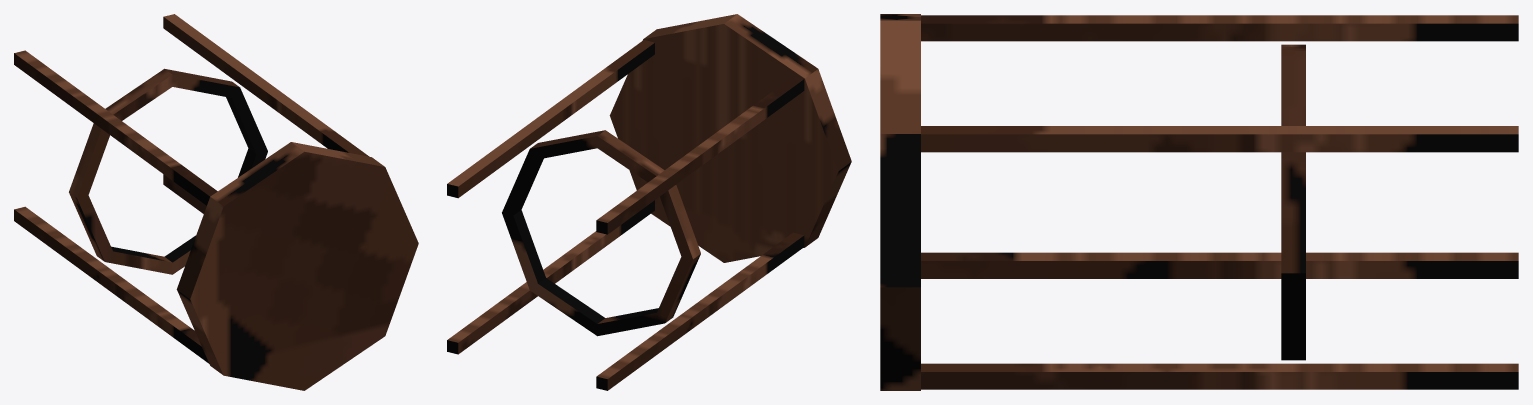
File: pz_house_stool_bar.obj
3 views of the same model, side by side, from view 1: azimuth 30°, elevation 25°; view 2: azimuth 150°, elevation 25°; view 3: azimuth 270°, elevation 25° (orthographic). The views are drawn at different scales.
Parts seen in each view (by area): view 1: pz_house_stool_bar_|_1_assento, pz_house_stool_bar_|_6_assento, pz_house_stool_bar_|_3_pes_suporte, pz_house_stool_bar_|_2_pes_suporte, pz_house_stool_bar_|_5_pes_suporte, pz_house_stool_bar_|_4_pes_suporte; view 2: pz_house_stool_bar_|_1_assento, pz_house_stool_bar_|_6_assento, pz_house_stool_bar_|_2_pes_suporte, pz_house_stool_bar_|_3_pes_suporte, pz_house_stool_bar_|_5_pes_suporte, pz_house_stool_bar_|_4_pes_suporte; view 3: pz_house_stool_bar_|_3_pes_suporte, pz_house_stool_bar_|_4_pes_suporte, pz_house_stool_bar_|_5_pes_suporte, pz_house_stool_bar_|_2_pes_suporte, pz_house_stool_bar_|_1_assento, pz_house_stool_bar_|_6_assento.
Part boxes in pixels (x1,y1,x2,y2): pz_house_stool_bar_|_1_assento: [176, 142, 418, 390]; pz_house_stool_bar_|_6_assento: [69, 68, 267, 274]; pz_house_stool_bar_|_3_pes_suporte: [14, 50, 217, 205]; pz_house_stool_bar_|_2_pes_suporte: [14, 206, 209, 363]; pz_house_stool_bar_|_5_pes_suporte: [163, 14, 368, 156]; pz_house_stool_bar_|_4_pes_suporte: [163, 174, 206, 213]; pz_house_stool_bar_|_1_assento: [609, 14, 851, 262]; pz_house_stool_bar_|_6_assento: [502, 130, 700, 336]; pz_house_stool_bar_|_2_pes_suporte: [596, 232, 804, 390]; pz_house_stool_bar_|_3_pes_suporte: [596, 76, 804, 234]; pz_house_stool_bar_|_5_pes_suporte: [447, 40, 654, 198]; pz_house_stool_bar_|_4_pes_suporte: [447, 200, 654, 354]; pz_house_stool_bar_|_3_pes_suporte: [921, 15, 1518, 41]; pz_house_stool_bar_|_4_pes_suporte: [921, 363, 1518, 389]; pz_house_stool_bar_|_5_pes_suporte: [921, 126, 1518, 152]; pz_house_stool_bar_|_2_pes_suporte: [921, 252, 1518, 278]; pz_house_stool_bar_|_1_assento: [880, 14, 920, 390]; pz_house_stool_bar_|_6_assento: [1281, 44, 1305, 360].
Bounding box in the file's own units: 0.49 × 0.49 × 0.78.
